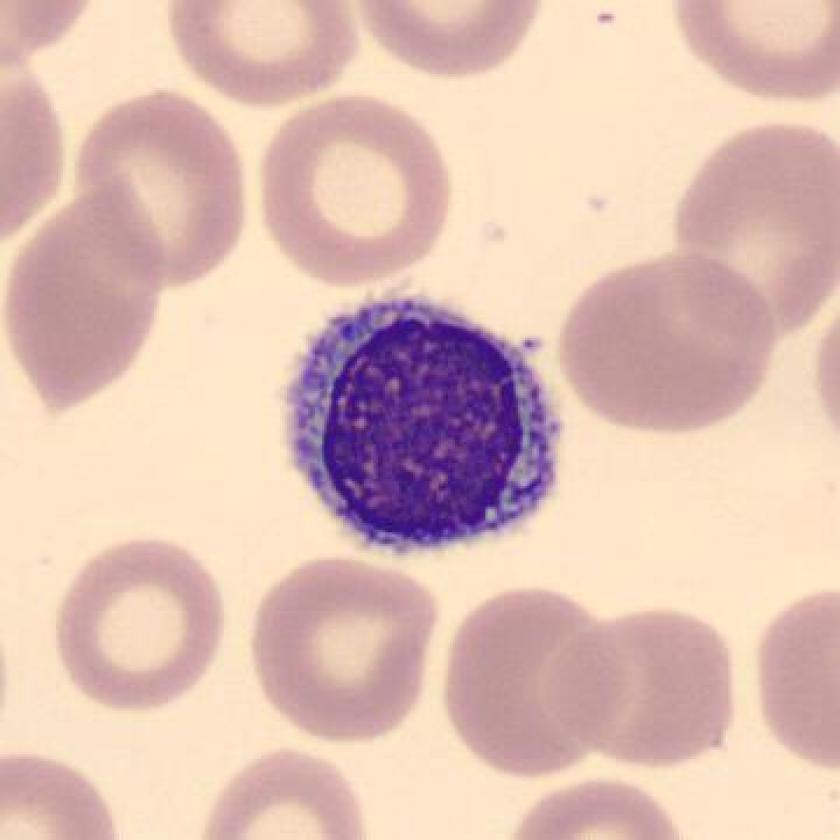lymphocyte: (267, 279, 575, 570)
